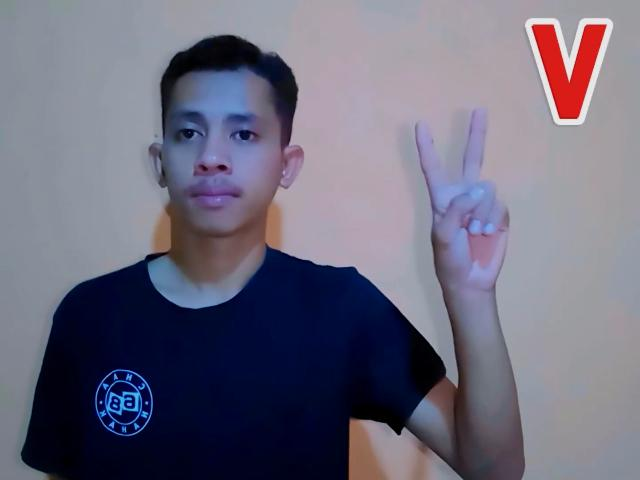V: (400, 102, 516, 296)
